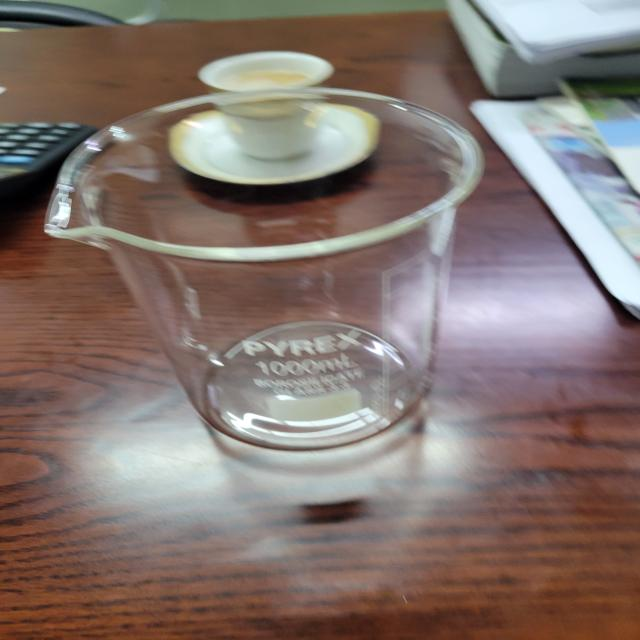Beaker: (39, 81, 491, 464)
